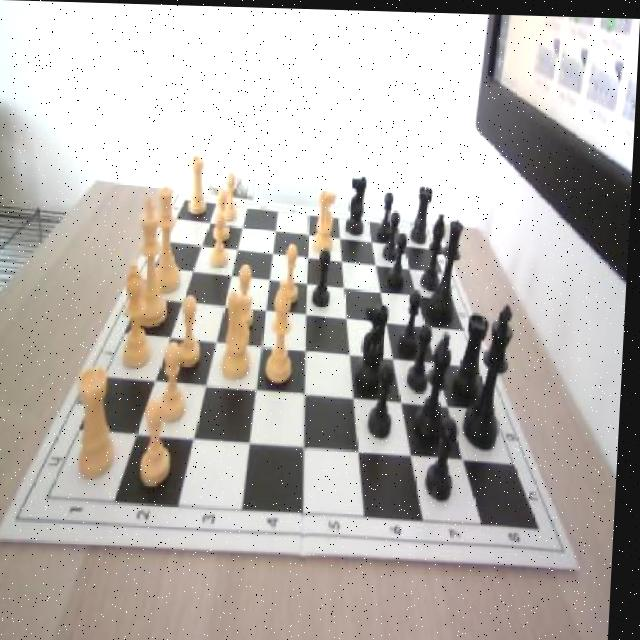bishop: (416, 324, 455, 442), (424, 208, 449, 290)
black-bishop: (467, 302, 517, 448)
black-king: (358, 303, 392, 393), (349, 173, 373, 234)
black-knight: (430, 413, 462, 498), (372, 358, 401, 436), (409, 321, 436, 390), (402, 285, 425, 353), (316, 245, 337, 306), (390, 229, 411, 287), (385, 208, 402, 261), (380, 189, 397, 239)
black-pawn: (430, 215, 467, 321)
black-queen: (457, 308, 492, 397), (414, 184, 435, 241)
black-rook: (119, 261, 160, 368), (268, 282, 299, 383)
white-bishop: (131, 196, 176, 329)
white-king: (219, 279, 262, 382), (315, 186, 340, 251)
white-knight: (143, 398, 179, 489), (160, 338, 194, 423), (177, 292, 208, 369), (233, 263, 260, 331), (282, 244, 304, 303), (211, 211, 232, 269), (222, 170, 243, 220), (215, 188, 235, 239)
white-pawn: (151, 185, 188, 292)
white-queen: (78, 365, 122, 479), (190, 154, 211, 217)
